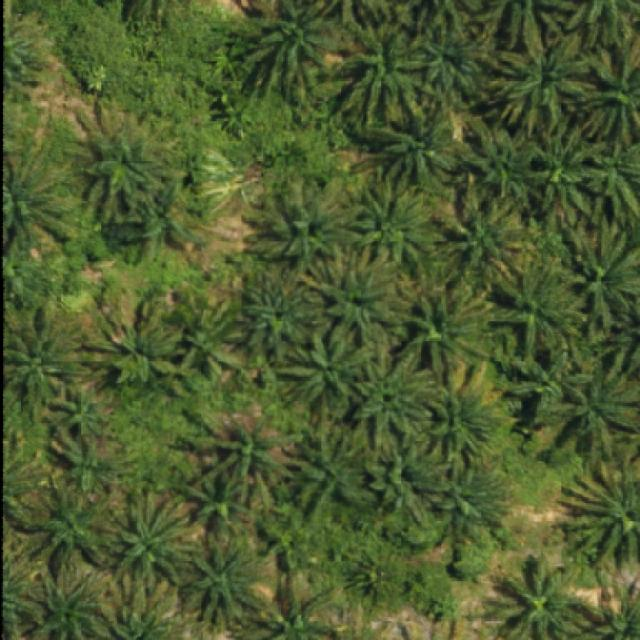Kelapa_Sawit: (74, 102, 184, 236), (297, 243, 401, 349), (492, 26, 590, 134), (388, 286, 497, 382), (339, 18, 430, 127), (190, 410, 305, 496), (95, 300, 191, 402), (107, 486, 201, 589), (245, 175, 344, 272), (495, 259, 588, 361), (276, 329, 384, 413), (185, 526, 273, 629), (352, 349, 440, 446), (352, 182, 448, 270), (442, 195, 528, 291), (288, 426, 382, 512), (462, 114, 546, 204), (124, 172, 210, 259), (510, 345, 598, 427), (530, 124, 608, 216), (33, 488, 115, 575), (370, 440, 453, 525), (241, 271, 322, 358), (177, 297, 249, 388), (380, 107, 462, 185), (417, 17, 494, 94), (429, 382, 502, 462), (434, 454, 506, 531), (54, 434, 128, 500), (188, 468, 264, 532), (54, 382, 109, 440)
